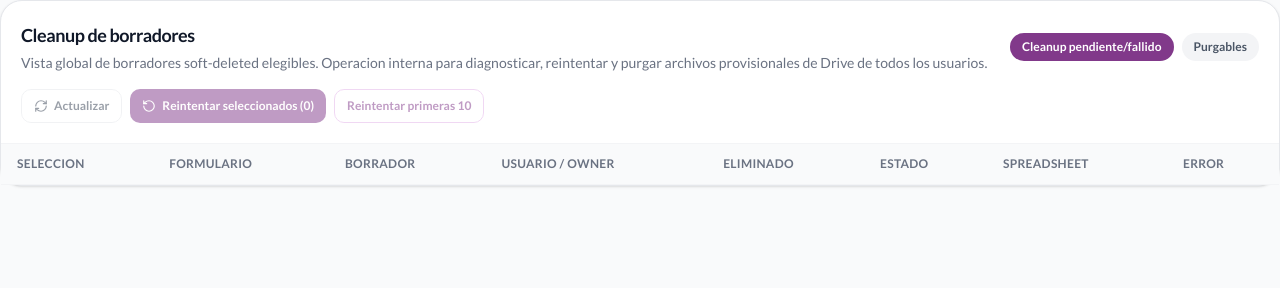
DraftCleanupAdminPanel › shows an explicit global empty state for purgeable drafts
This screenshot has width=1280, height=288.
Click the button "Purgables": (1220, 47) [1182,33,1259,61]
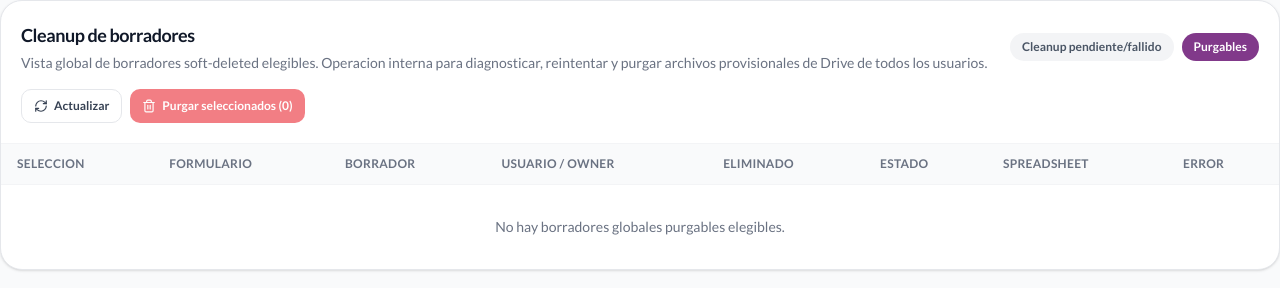
Expected: the text "No hay borradores globales purgables elegibles." is shown, [495,218,785,235]
